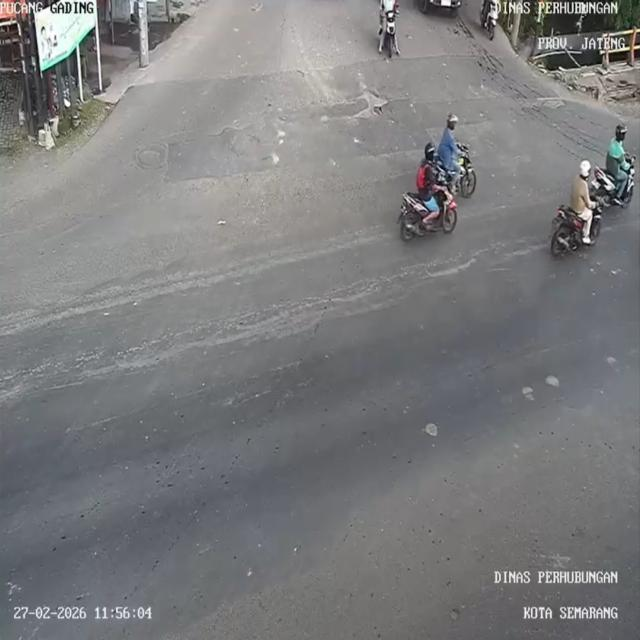motorcycle: (396, 189, 462, 244), (548, 206, 602, 260), (589, 162, 637, 211), (456, 142, 481, 203), (380, 10, 401, 58), (486, 2, 499, 40)
person: (416, 143, 445, 206), (603, 122, 630, 181), (439, 111, 464, 171), (572, 157, 594, 223), (381, 0, 400, 24)
rider_region: (394, 138, 458, 242), (547, 159, 605, 259), (433, 111, 478, 195), (598, 120, 636, 212), (374, 0, 405, 58)
